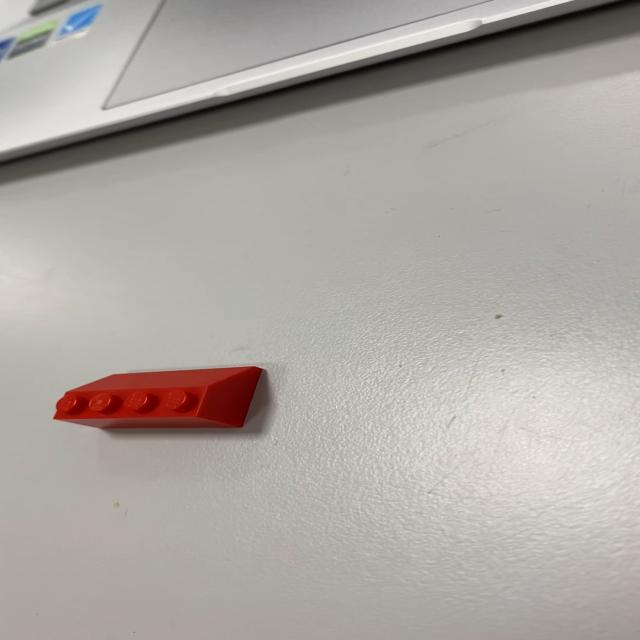P4x2x1: (52, 365, 264, 430)
